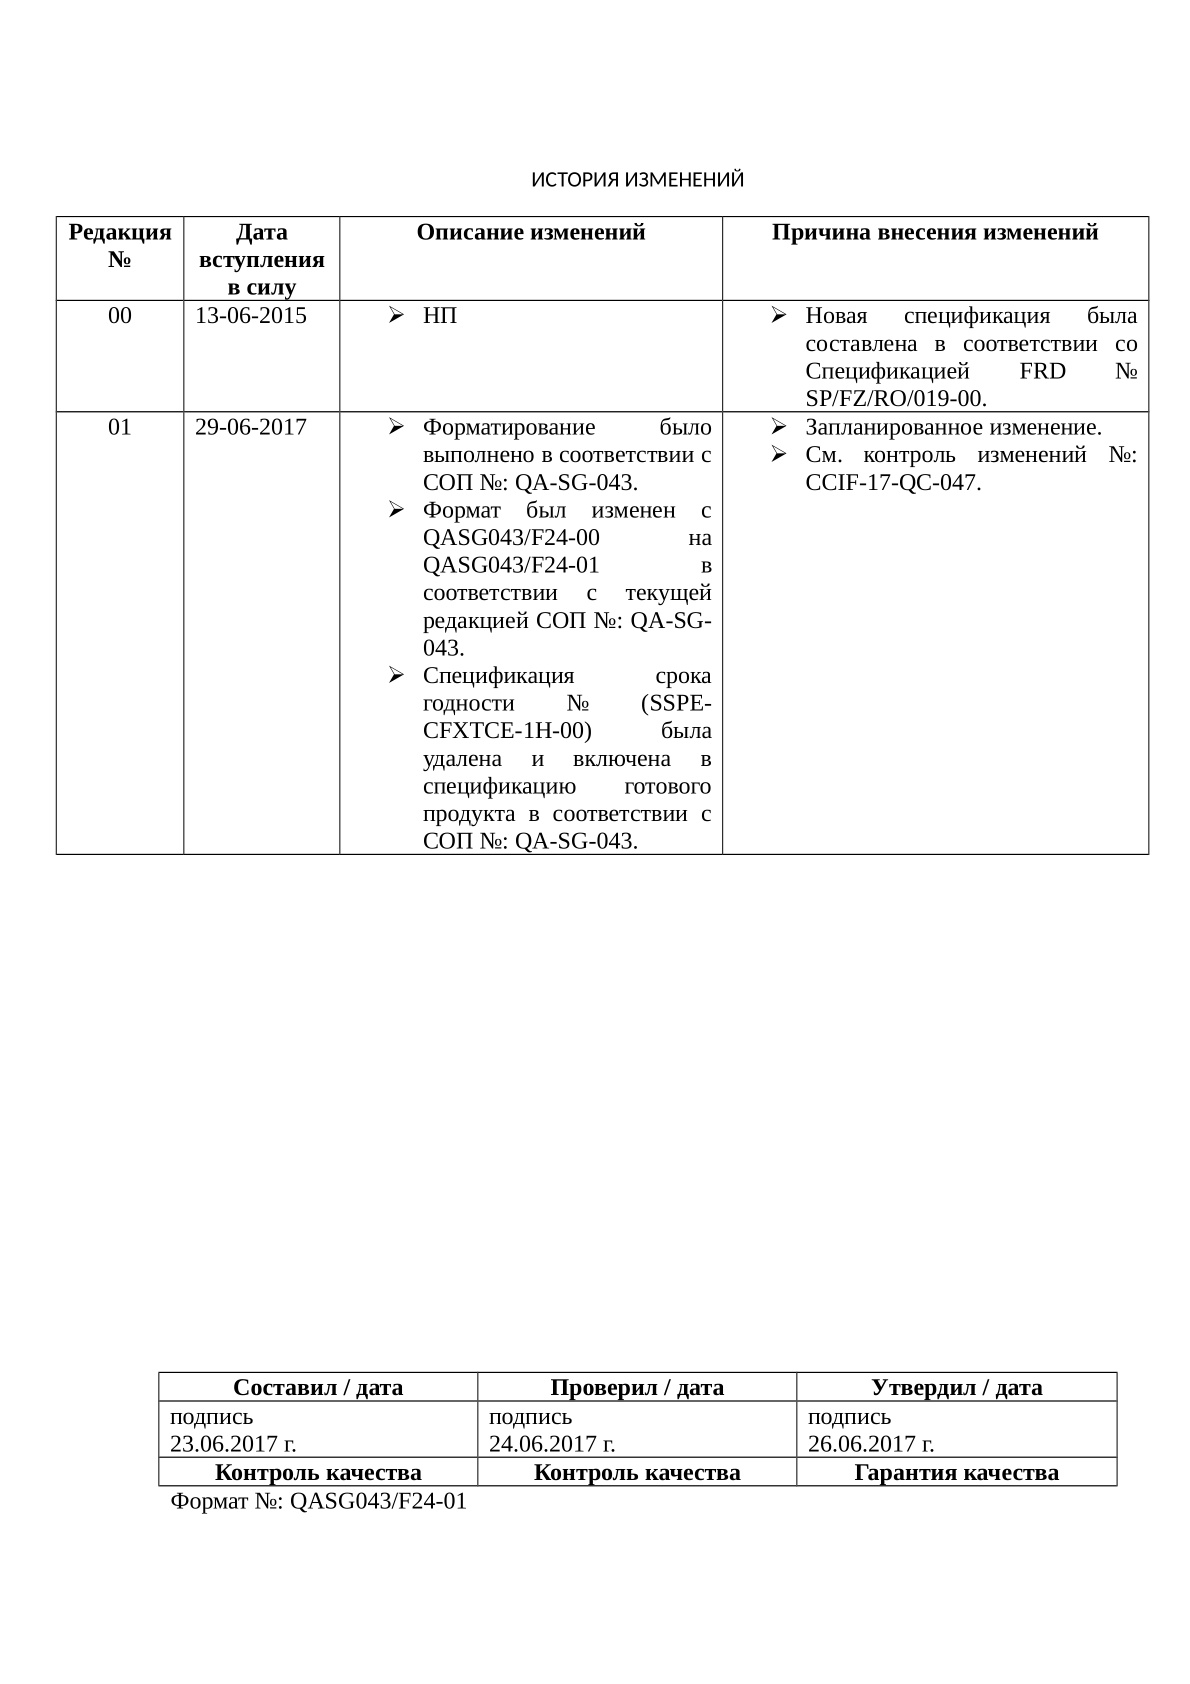full_lined: (55, 215, 1150, 856), (158, 1370, 1119, 1487)
